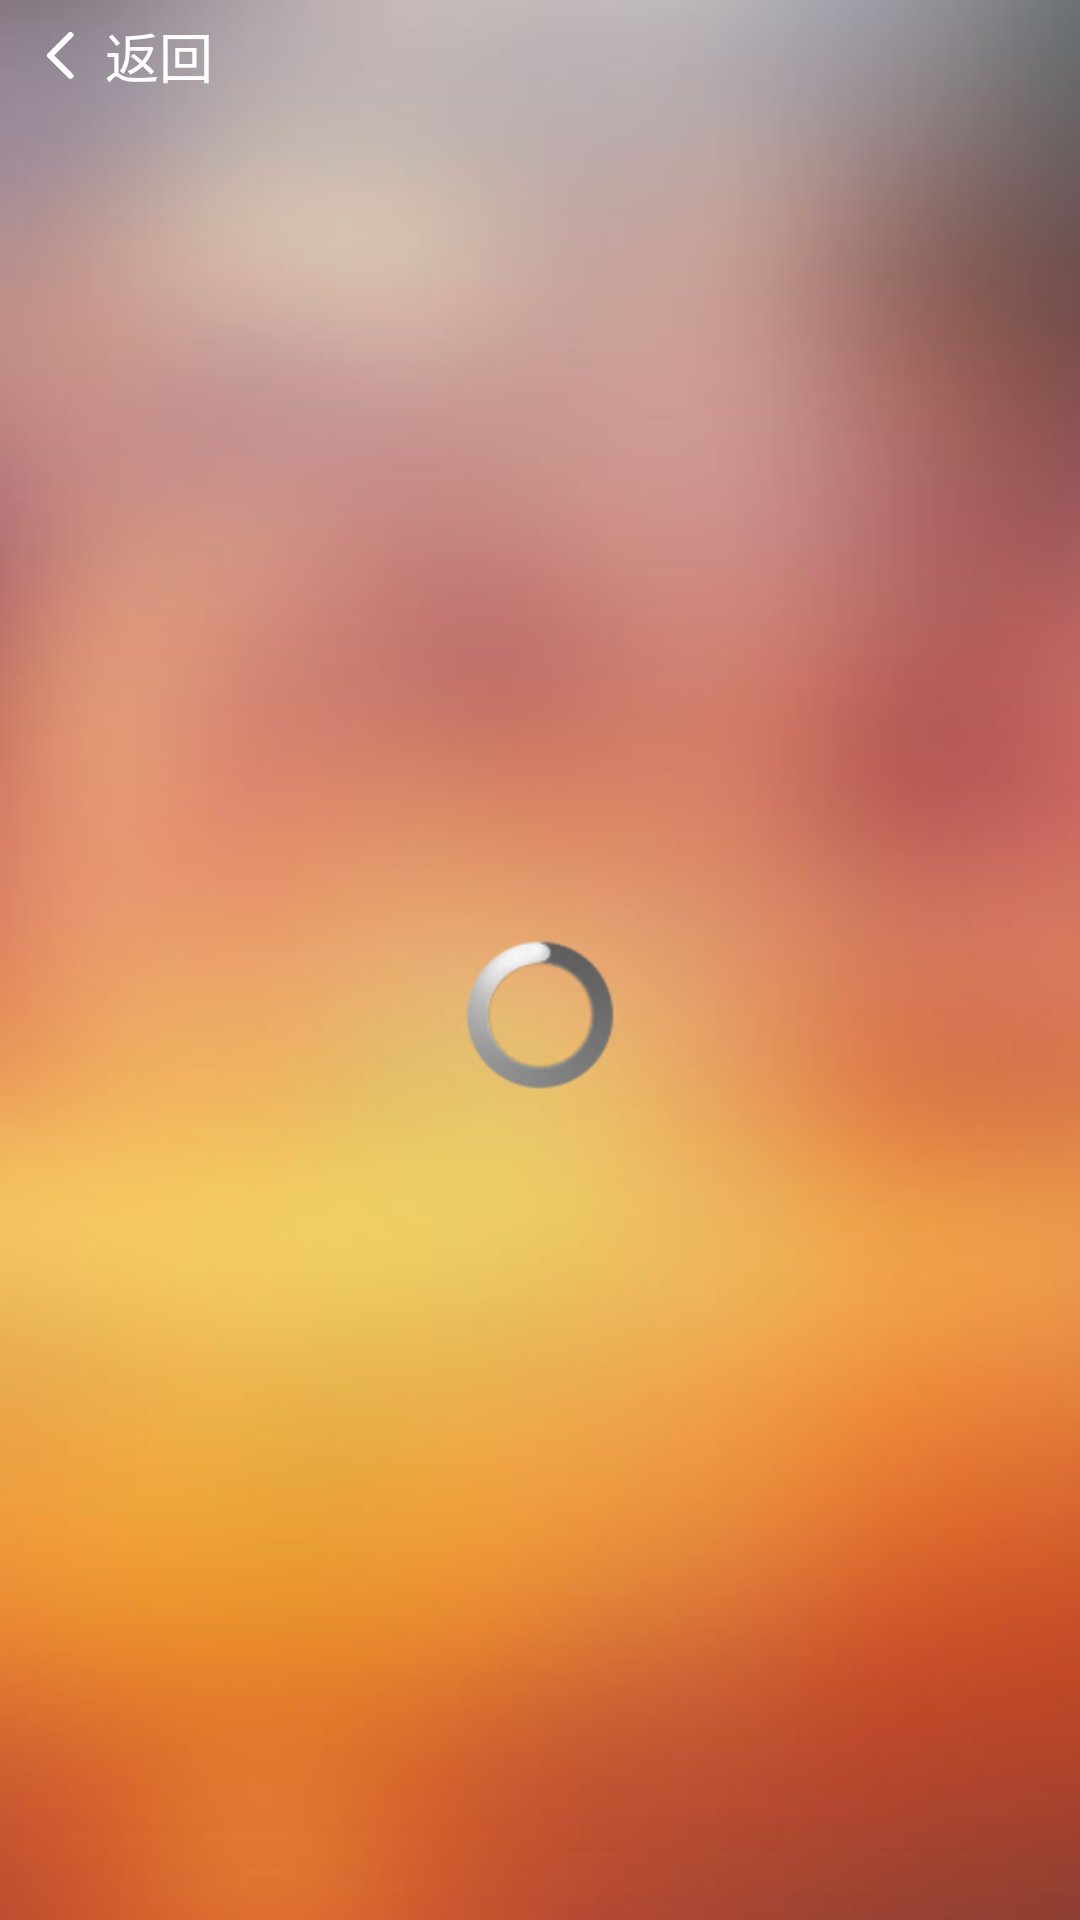

Where icons sit on this 1080 × 1920 app screen, as (x1, y1, x2, y2):
back: (47, 32, 74, 79)
